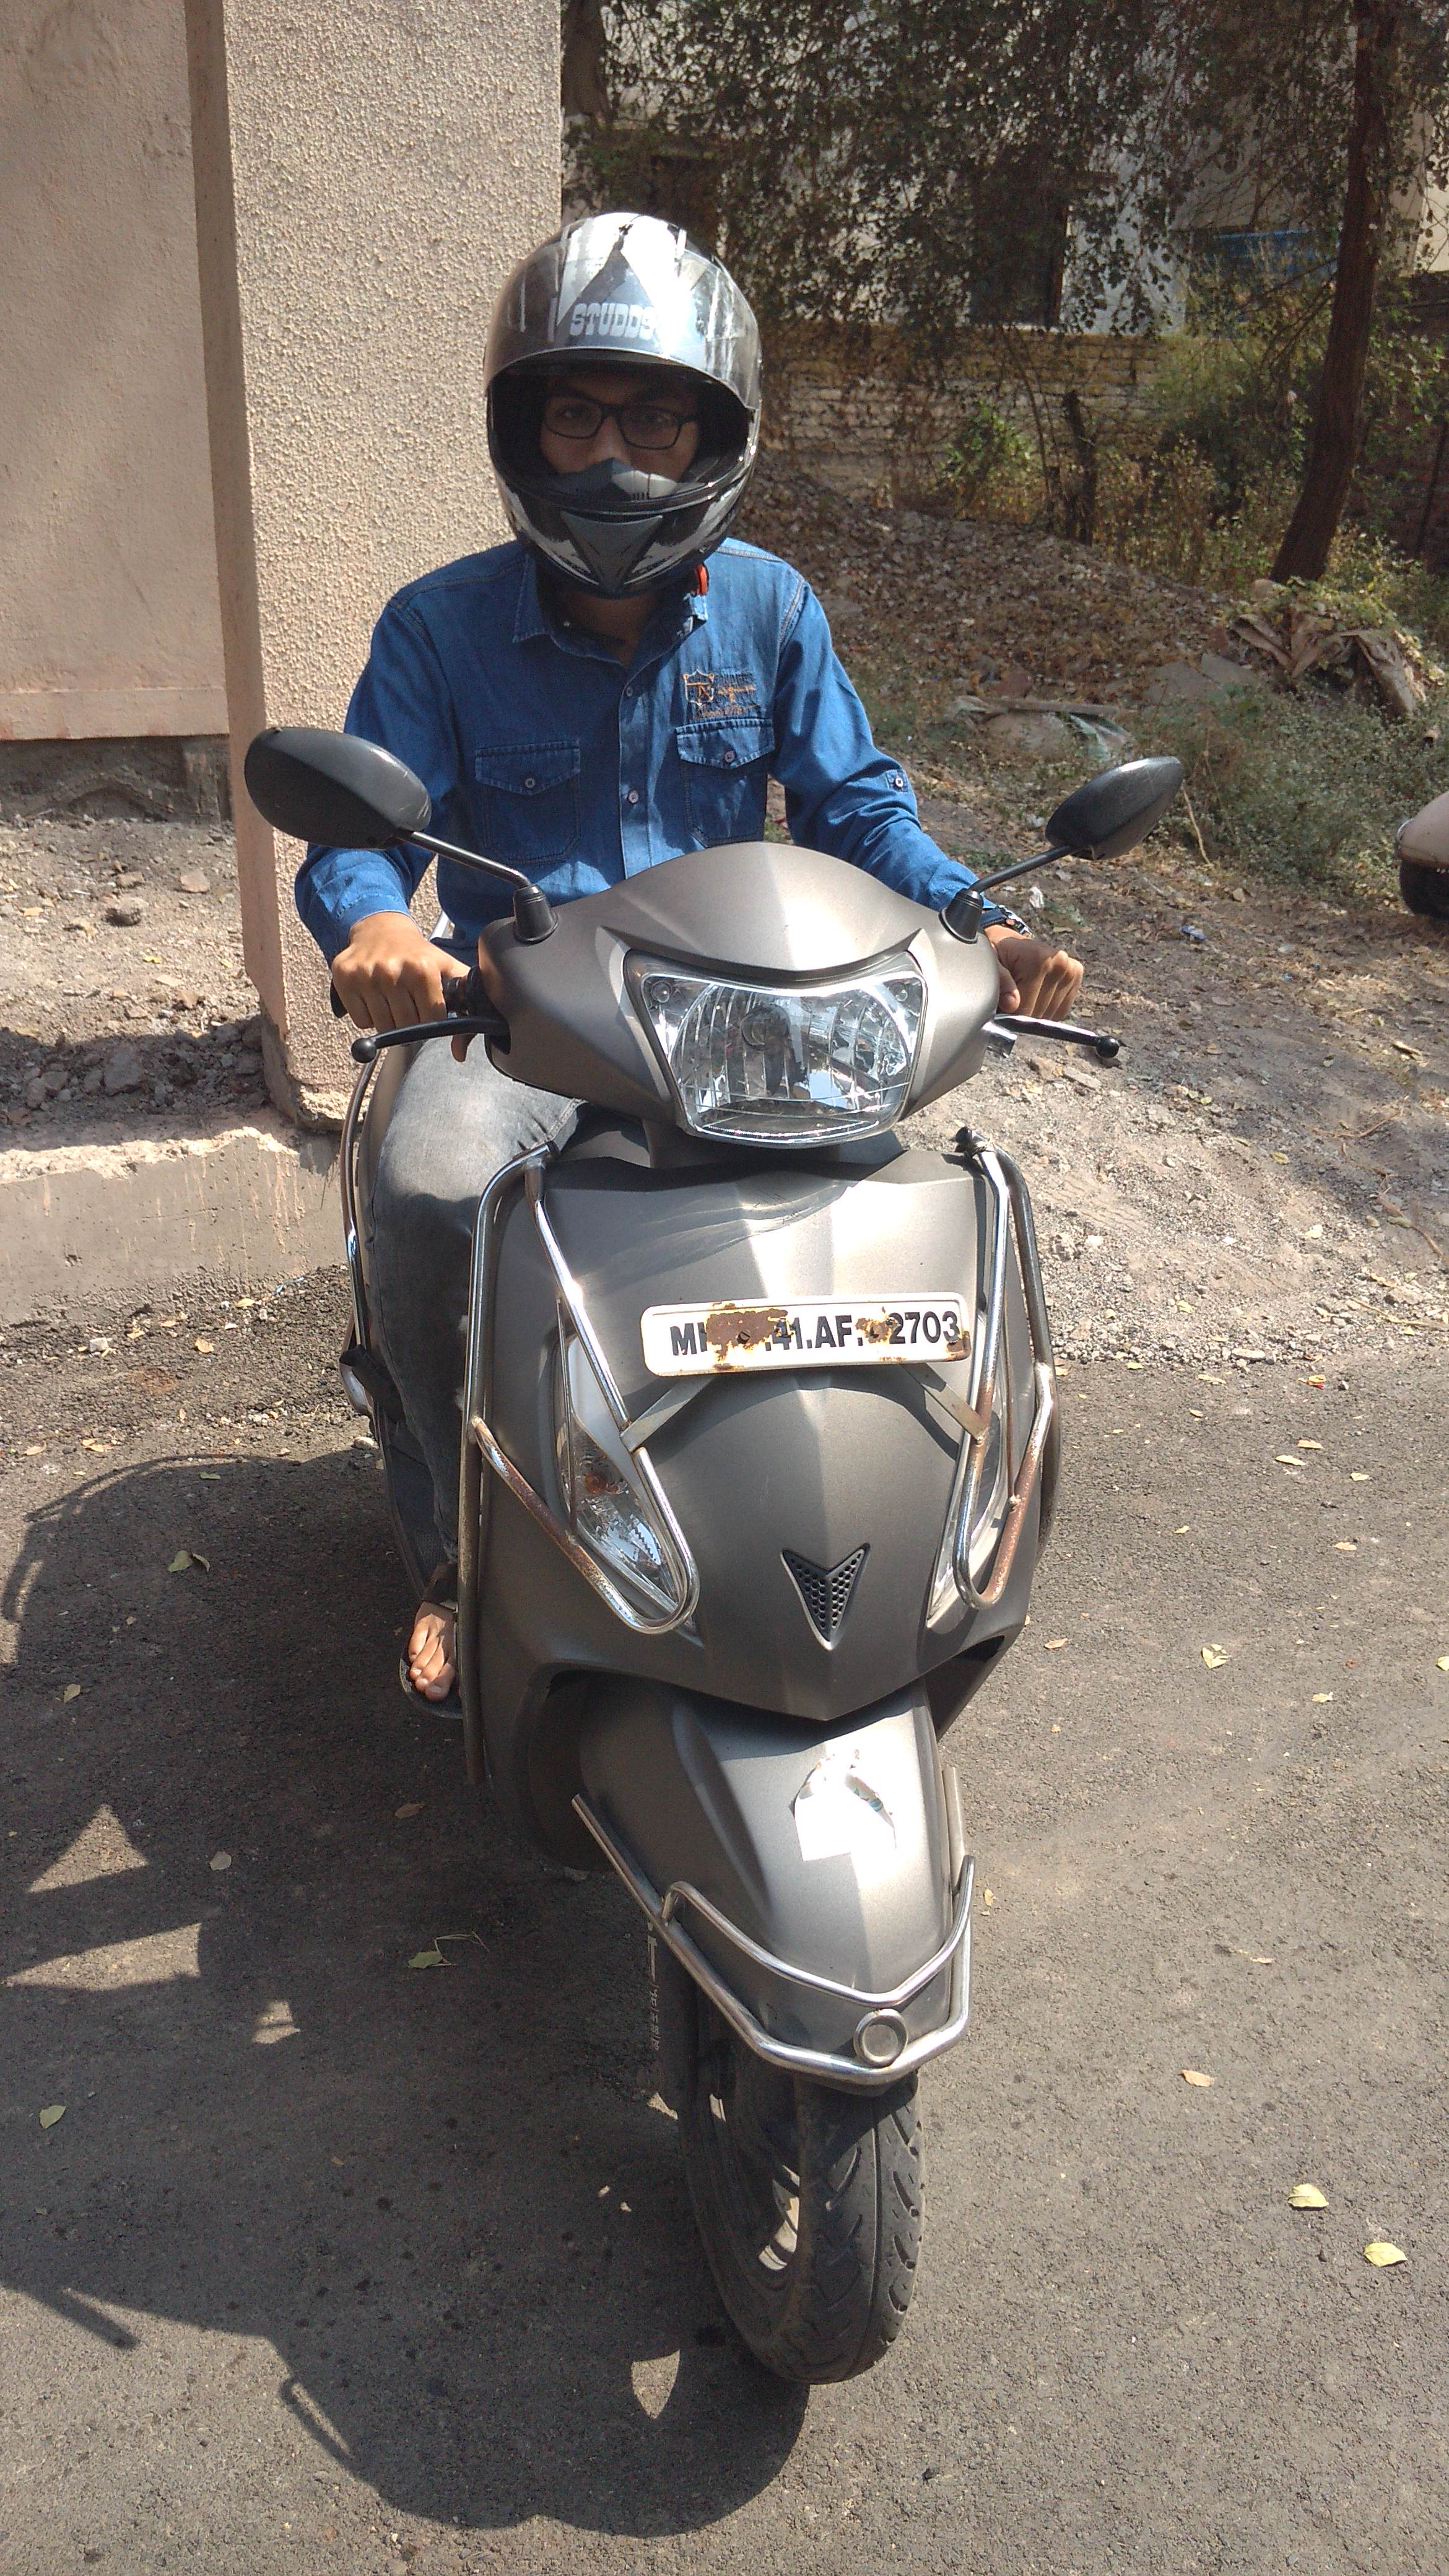helmet: (209, 211, 1146, 1396)
